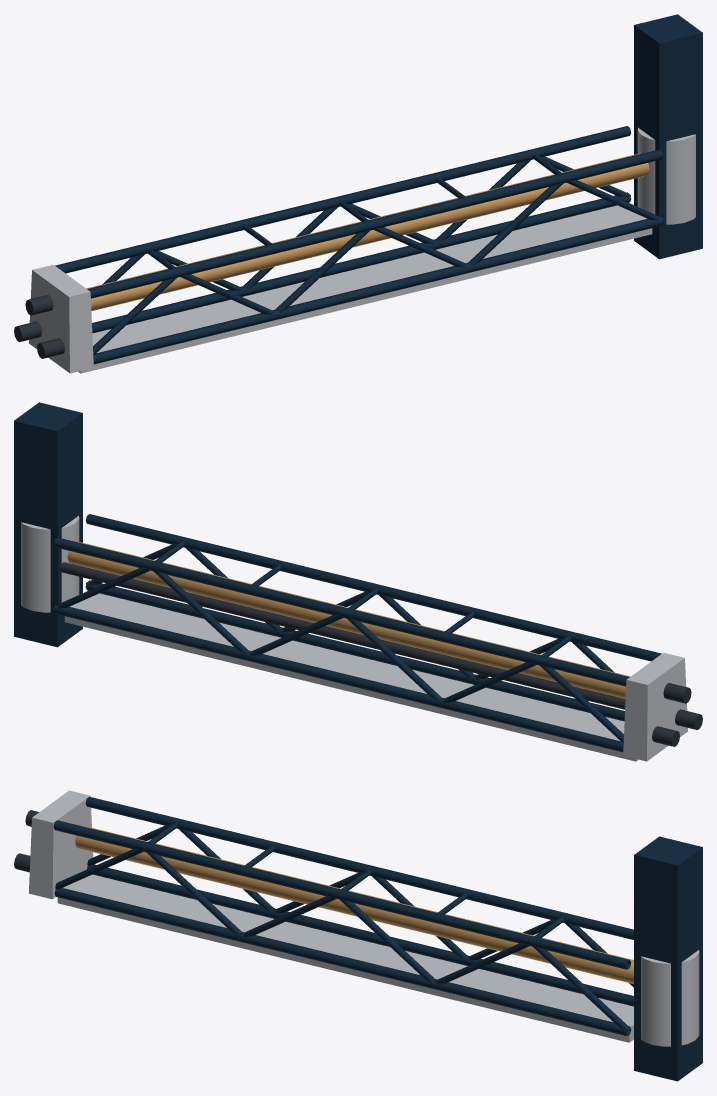
File: world_umbilical_arm.glb
3 views of the same model, one above another, from view 1: azimuth 30°, elevation 25°; view 2: azimuth 150°, elevation 25°; view 3: azimuth 330°, elevation 25° (orthographic).
Parts seen in each view (by area): view 1: world_umbilical_arm_mesh; view 2: world_umbilical_arm_mesh; view 3: world_umbilical_arm_mesh.
Boxes of the visible parts, box(x1,y1,x2,y2) form: world_umbilical_arm_mesh: box(14, 14, 702, 373); world_umbilical_arm_mesh: box(14, 402, 702, 761); world_umbilical_arm_mesh: box(14, 790, 702, 1081).
Bounding box in the file's own units: 8.39 × 2.6 × 0.9.
